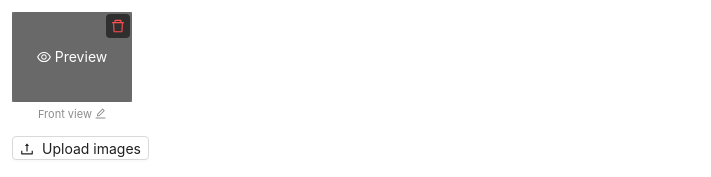
Test case: MockupUploader › shows an error message and keeps the image when deletion fails
Click the button named "delete" at coordinates (118, 26), box top-left (106, 14), bottom-right (130, 38)
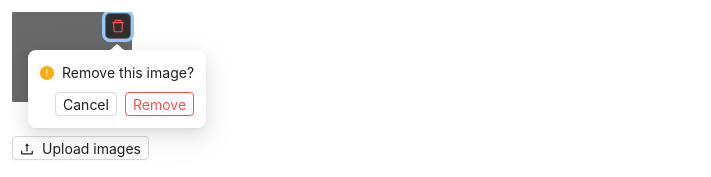
Click the button "Remove" at coordinates (159, 104), box top-left (125, 92), bottom-right (194, 116)
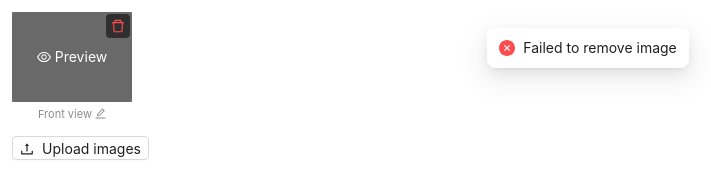
Expected: the text "Front view" is shown, top-left (38, 106), bottom-right (106, 123)
Expected: the text "Failed to remove image" is shown, top-left (523, 37), bottom-right (677, 59)
